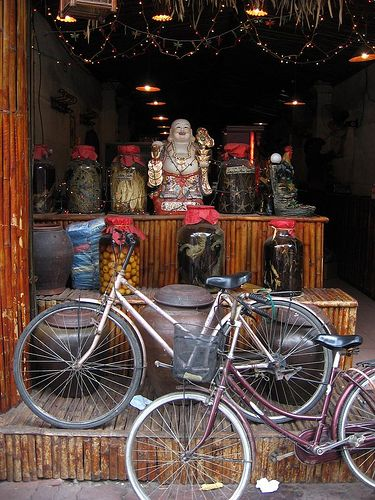bicycle: (23, 257, 328, 426), (109, 304, 373, 491)
